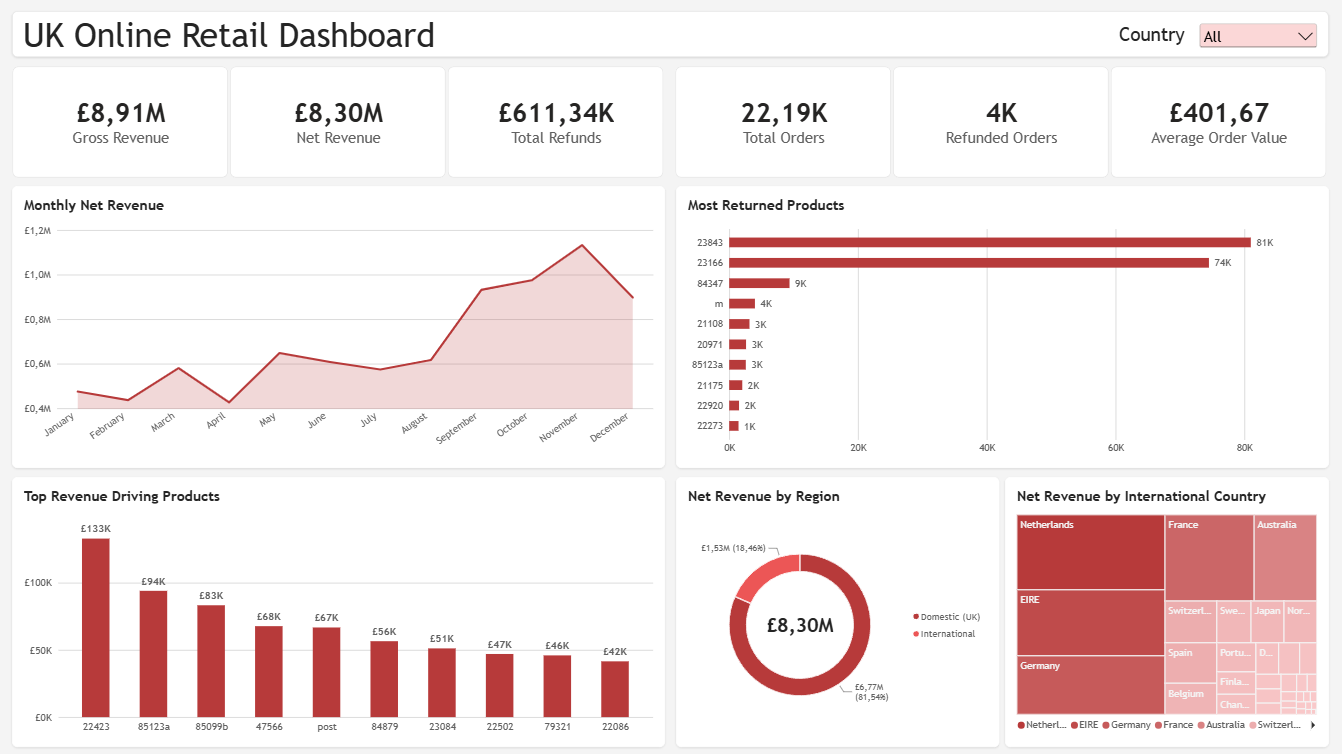

The page's visual inventory and layout, read from the dashboard file:
{"tool":"powerbi","page":{"name":"Page 1","canvas":[1920,1080],"ordinal":0},"visuals":[{"type":"textbox","box":[20.4,16,1880.6,65.7],"z":0},{"type":"slicer","fields":{"Values":["Dim_Customer.Country"]},"box":[1711.8,27.9,178.2,53.2],"z":1000},{"type":"textbox","box":[1530.9,27.9,163.6,53.2],"z":2000},{"type":"cardVisual","fields":{"Data":["_Measures.Gross Revenue","_Measures.Net Revenue","_Measures.Total Refunds"]},"box":[20,94.2,932.5,160.8],"z":3000},{"type":"lineChart","title":"Monthly Net Revenue","fields":{"Category":["Fact_Sales.InvoiceDate.Variation.Date Hierarchy.Month","Fact_Sales.InvoiceDate.Variation.Date Hierarchy.Day"],"Y":["Sum(Fact_Sales.Total)"]},"box":[20,265,932.5,402.5],"z":4000},{"type":"columnChart","title":"Top Revenue Driving Products","fields":{"Category":["Dim_Product.StockCode"],"Y":["Sum(Fact_Sales.Total)"]},"box":[20,681,933,386],"z":5000},{"type":"cardVisual","fields":{"Data":["Count(Fact_Sales.InvoiceNo)","_Measures.Refunded Orders","_Measures.Average Order Value"]},"box":[967.5,94.2,933.3,160.8],"z":6000},{"type":"clusteredBarChart","title":"Most Returned Products","fields":{"Category":["Dim_Product.StockCode"],"Y":["_Measures.Returned Products"]},"box":[968,265,933,403],"z":7000},{"type":"donutChart","title":"Net Revenue by Region","fields":{"Category":["Dim_Customer.Market Region"],"Y":["_Measures.Net Revenue"]},"box":[968.5,681,462,385.5],"z":8000},{"type":"treemap","title":"Net Revenue by International Country","fields":{"Group":["Dim_Customer.Country"],"Values":["_Measures.Net Revenue"]},"box":[1438.5,681,462.5,386],"z":9000}]}

Visuals, with their boxes in screenshot pixels (x1, y1, x2, y2), scaled from the page's 1920x1080 canvas onto the 1342x754 screenshot:
textbox: [x1=14, y1=11, x2=1329, y2=57]
slicer - Dim_Customer.Country: [x1=1196, y1=19, x2=1321, y2=57]
textbox: [x1=1070, y1=19, x2=1184, y2=57]
cardVisual - _Measures.Gross Revenue x _Measures.Net Revenue: [x1=14, y1=66, x2=666, y2=178]
"Monthly Net Revenue" lineChart: [x1=14, y1=185, x2=666, y2=466]
"Top Revenue Driving Products" columnChart: [x1=14, y1=475, x2=666, y2=745]
cardVisual - Count(Fact_Sales.InvoiceNo) x _Measures.Refunded Orders: [x1=676, y1=66, x2=1329, y2=178]
"Most Returned Products" clusteredBarChart: [x1=677, y1=185, x2=1329, y2=466]
"Net Revenue by Region" donutChart: [x1=677, y1=475, x2=1000, y2=745]
"Net Revenue by International Country" treemap: [x1=1005, y1=475, x2=1329, y2=745]
